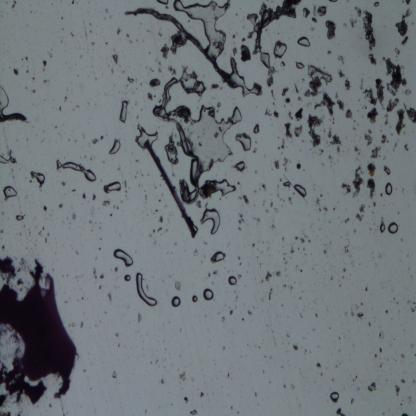Air bubble: (166, 102, 243, 198), (172, 0, 231, 61), (226, 55, 262, 102), (0, 86, 25, 126), (56, 159, 97, 182), (179, 64, 207, 97), (136, 271, 158, 307), (134, 121, 162, 146), (200, 207, 221, 236), (164, 132, 180, 166), (259, 53, 276, 77), (113, 249, 134, 268), (28, 168, 47, 186), (236, 133, 252, 153), (273, 39, 287, 59), (0, 152, 20, 166), (119, 100, 129, 125), (4, 184, 19, 200), (293, 183, 309, 198), (104, 180, 121, 194), (210, 250, 226, 264), (108, 140, 122, 155), (382, 182, 394, 197), (297, 36, 312, 48), (388, 221, 399, 236), (234, 160, 246, 172), (203, 288, 215, 300), (330, 390, 340, 403), (378, 221, 387, 234), (171, 296, 181, 307), (228, 274, 236, 286), (252, 122, 260, 134), (296, 61, 306, 70), (15, 213, 25, 222), (156, 0, 169, 6), (373, 1, 381, 9), (192, 294, 198, 304), (124, 274, 131, 282)
Background material: (382, 57, 406, 96), (306, 64, 334, 95), (361, 10, 376, 52), (306, 112, 323, 148), (316, 92, 336, 119), (394, 9, 413, 37), (352, 166, 366, 203), (323, 19, 337, 43), (402, 101, 416, 124), (376, 76, 386, 108), (238, 42, 252, 63), (396, 108, 406, 137), (385, 97, 401, 115), (364, 88, 377, 106), (366, 177, 376, 200), (312, 4, 327, 18), (148, 76, 163, 90), (160, 41, 171, 60), (382, 164, 394, 181), (329, 134, 344, 147), (340, 180, 352, 196), (236, 213, 246, 232), (283, 118, 292, 139), (368, 109, 379, 125), (336, 96, 346, 113), (292, 125, 304, 139), (362, 133, 373, 147), (368, 53, 378, 68), (371, 146, 382, 159), (367, 381, 378, 393), (166, 65, 178, 76), (358, 202, 368, 215), (378, 132, 388, 145), (344, 108, 354, 121), (367, 164, 377, 177), (295, 106, 304, 120), (263, 271, 273, 283), (344, 77, 352, 91), (123, 74, 134, 84), (352, 5, 362, 16), (349, 16, 358, 28), (294, 81, 301, 96), (111, 52, 119, 65), (302, 6, 310, 19), (10, 0, 20, 10), (106, 290, 113, 304), (279, 136, 286, 150), (335, 407, 347, 415), (180, 371, 188, 383), (337, 67, 345, 79), (124, 34, 134, 43), (194, 198, 203, 208), (384, 112, 390, 127), (354, 214, 364, 223), (266, 77, 274, 88), (272, 159, 280, 170), (242, 194, 250, 205), (282, 87, 290, 98), (270, 88, 275, 105), (175, 280, 182, 292), (394, 384, 401, 396), (102, 197, 111, 206), (359, 76, 364, 92), (378, 330, 386, 340), (251, 146, 259, 156), (315, 360, 323, 370), (93, 268, 99, 281), (219, 312, 226, 323), (338, 54, 345, 65), (268, 287, 273, 302), (393, 46, 401, 55), (46, 48, 54, 57), (284, 156, 290, 168), (67, 321, 76, 329), (146, 92, 155, 100), (90, 137, 99, 145), (402, 36, 409, 46), (405, 87, 412, 97), (343, 244, 350, 254), (288, 110, 294, 121), (42, 57, 48, 68), (392, 141, 398, 152), (404, 142, 410, 153), (264, 108, 272, 116), (80, 192, 88, 200), (326, 154, 334, 162), (295, 95, 303, 103), (211, 82, 219, 90), (41, 204, 49, 212), (357, 312, 365, 320), (245, 309, 253, 317), (283, 180, 292, 187), (295, 162, 302, 171), (273, 110, 280, 119), (62, 94, 68, 104), (316, 197, 322, 207), (183, 394, 189, 404), (246, 30, 254, 37), (252, 216, 260, 223), (312, 16, 320, 23), (72, 212, 78, 221), (158, 215, 164, 224), (353, 374, 358, 384), (112, 370, 117, 380), (80, 320, 85, 330), (228, 308, 235, 315), (236, 272, 242, 280), (156, 224, 162, 232), (288, 196, 294, 204), (344, 217, 350, 225), (285, 97, 291, 105), (276, 193, 282, 201), (260, 182, 266, 190), (334, 146, 340, 154), (293, 344, 299, 352), (232, 48, 238, 56), (89, 39, 95, 47), (226, 370, 232, 378), (401, 352, 406, 361), (92, 193, 97, 202), (194, 247, 198, 258), (138, 312, 142, 323), (1, 242, 5, 253), (399, 378, 406, 384), (250, 242, 256, 249), (42, 78, 48, 85), (326, 49, 332, 56), (13, 71, 20, 77), (354, 146, 361, 152), (280, 61, 286, 68), (26, 228, 32, 235), (366, 128, 373, 134), (290, 383, 296, 390), (270, 223, 276, 230), (64, 136, 71, 142), (300, 237, 306, 244), (212, 268, 219, 274), (276, 268, 281, 276), (354, 303, 359, 311), (408, 396, 413, 404), (378, 251, 383, 259), (189, 410, 199, 414), (334, 90, 339, 98), (30, 88, 36, 94), (103, 7, 109, 13), (280, 236, 286, 242), (88, 218, 94, 224), (330, 116, 334, 125), (405, 0, 411, 6), (350, 307, 354, 316), (269, 200, 273, 209), (329, 0, 338, 4), (152, 208, 158, 214), (290, 245, 294, 254), (280, 283, 286, 289), (343, 310, 348, 317), (157, 68, 162, 75), (112, 205, 119, 210), (131, 173, 138, 178), (69, 0, 77, 4), (379, 362, 383, 370), (117, 27, 121, 35), (59, 202, 63, 210), (31, 75, 35, 83), (151, 239, 157, 244), (24, 56, 29, 62), (294, 235, 300, 240), (240, 38, 246, 43), (319, 148, 324, 154), (302, 349, 308, 354), (115, 332, 120, 338), (99, 273, 104, 279), (74, 249, 79, 255), (398, 238, 404, 243), (80, 296, 86, 301), (379, 192, 384, 198), (200, 392, 205, 398), (160, 378, 165, 384), (0, 210, 5, 216), (135, 158, 140, 164), (142, 195, 147, 201), (124, 180, 127, 190), (58, 105, 62, 112), (401, 412, 408, 416), (70, 31, 74, 38), (218, 102, 222, 109), (323, 248, 327, 255), (143, 408, 147, 415), (372, 199, 376, 206), (236, 294, 240, 301), (362, 104, 367, 109), (285, 332, 290, 337), (108, 212, 113, 217), (204, 203, 209, 208), (157, 32, 161, 38), (314, 313, 318, 319), (150, 67, 154, 73), (368, 321, 372, 327), (283, 383, 287, 389), (37, 229, 41, 235), (411, 307, 415, 313), (378, 347, 382, 353), (382, 154, 386, 160), (290, 284, 294, 290), (154, 358, 160, 362), (234, 12, 240, 16), (300, 312, 304, 318), (274, 208, 278, 214), (324, 205, 328, 211), (280, 302, 284, 308), (369, 227, 373, 233), (208, 271, 211, 278), (104, 41, 109, 45), (203, 240, 208, 244), (407, 299, 411, 304), (236, 180, 241, 184), (364, 287, 368, 292), (342, 267, 346, 272), (98, 225, 102, 230), (352, 230, 356, 235), (264, 208, 268, 213), (311, 327, 316, 331), (302, 77, 306, 82), (380, 217, 384, 222), (0, 230, 4, 235), (254, 392, 258, 397), (44, 237, 48, 242), (284, 260, 288, 265), (89, 156, 93, 161), (283, 252, 287, 257), (299, 267, 303, 272), (100, 134, 103, 140), (258, 261, 261, 267), (147, 28, 150, 34), (99, 318, 102, 324), (262, 199, 265, 205), (110, 68, 113, 74), (89, 29, 92, 35), (99, 284, 102, 290), (95, 256, 98, 262), (374, 353, 378, 357), (277, 146, 281, 150), (412, 380, 416, 384), (412, 301, 416, 305), (399, 402, 403, 406), (268, 380, 272, 384), (320, 194, 324, 198), (401, 0, 405, 4), (395, 302, 399, 306), (236, 410, 240, 414), (396, 211, 400, 215), (114, 268, 118, 272), (117, 343, 121, 347), (158, 198, 162, 202), (236, 256, 240, 260), (26, 70, 30, 74), (122, 69, 125, 74), (69, 220, 72, 225), (330, 276, 333, 281), (320, 372, 323, 377), (230, 405, 233, 410), (308, 238, 311, 243), (360, 301, 363, 306), (390, 132, 393, 137), (407, 266, 410, 271), (223, 346, 226, 351), (402, 395, 404, 402), (153, 228, 155, 234), (54, 126, 57, 130), (282, 257, 286, 260), (174, 242, 177, 246), (239, 262, 242, 266), (385, 310, 388, 314), (338, 348, 341, 352), (60, 16, 64, 19), (166, 6, 169, 10), (232, 34, 235, 38), (302, 247, 305, 251), (24, 246, 27, 250), (352, 127, 356, 130), (42, 227, 45, 231), (47, 232, 50, 236), (332, 378, 335, 382), (19, 232, 22, 236), (338, 284, 342, 287), (54, 250, 57, 254), (358, 98, 361, 102), (150, 361, 153, 365), (125, 194, 128, 198), (339, 335, 341, 340), (336, 363, 338, 368), (352, 399, 354, 404), (402, 188, 404, 193), (35, 243, 37, 248), (317, 345, 320, 348), (241, 318, 244, 321), (328, 326, 331, 329), (256, 255, 259, 258), (353, 120, 356, 123), (262, 369, 265, 372), (99, 247, 102, 250), (385, 378, 387, 382), (62, 27, 64, 31), (398, 309, 400, 313), (383, 412, 385, 416), (218, 198, 222, 200), (375, 228, 377, 232), (281, 365, 283, 369), (262, 241, 264, 245), (67, 273, 69, 277), (171, 402, 173, 406), (393, 297, 395, 300), (309, 350, 312, 352), (372, 211, 374, 214), (333, 207, 335, 210), (391, 300, 393, 303), (342, 276, 344, 279), (258, 346, 260, 349), (356, 124, 359, 126), (125, 190, 127, 193), (404, 329, 406, 331), (368, 205, 370, 207), (62, 275, 64, 277), (411, 274, 412, 278), (264, 355, 266, 357), (394, 338, 395, 341), (415, 306, 416, 309)
Cellulose filter fibre: (124, 8, 236, 90), (152, 79, 199, 202), (252, 2, 300, 52)
Microfibre: (145, 139, 197, 239)
Pen: (0, 255, 78, 413)
